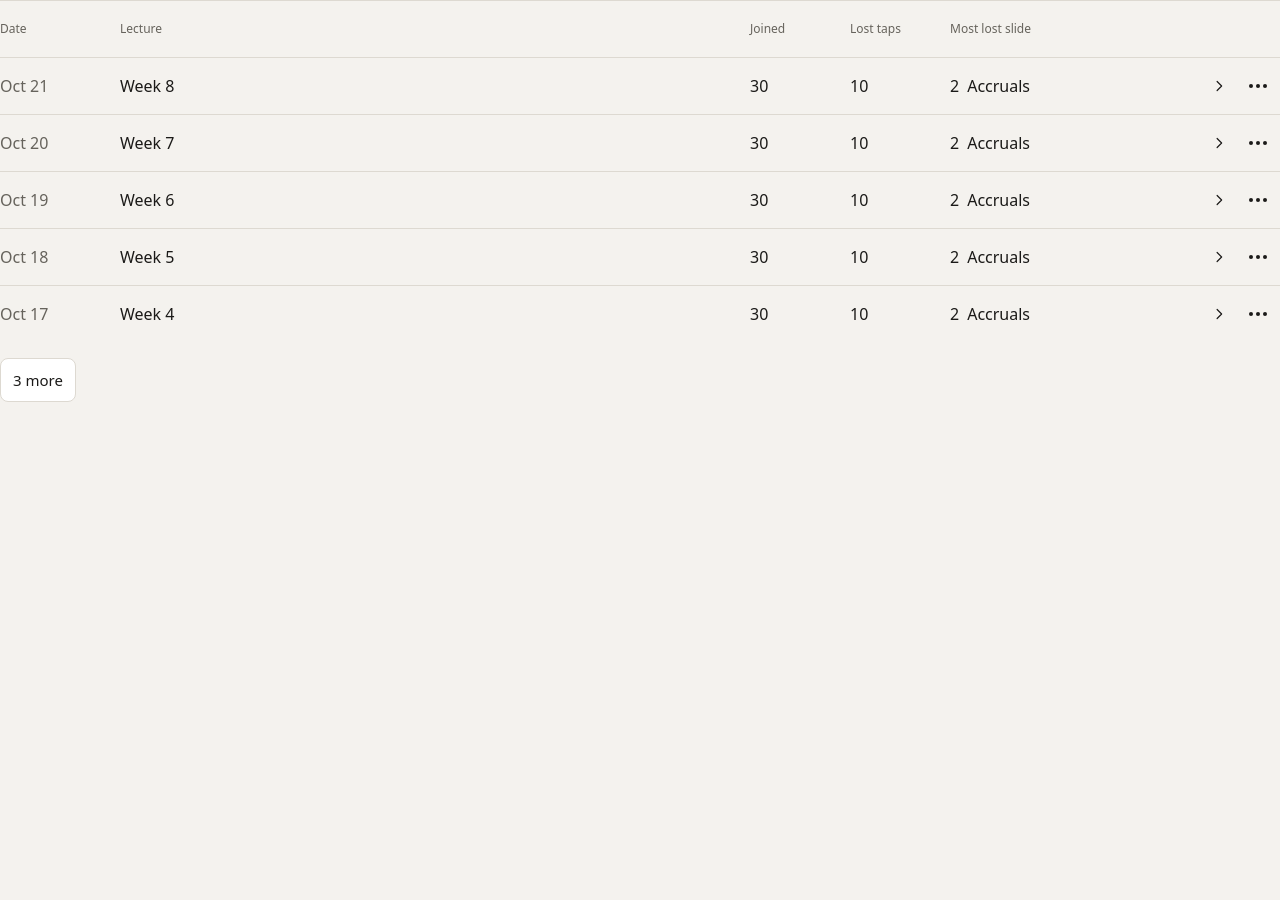
it: PastLectures › gives every shown row an always-visible ⋯ menu for that lecture, outside the row link
This screenshot has width=1280, height=900.
What coordinates should you click on to do the following:
click the button named "More for "
I would click on:
 (1258, 86)
Its box is [1236,64,1279,108].
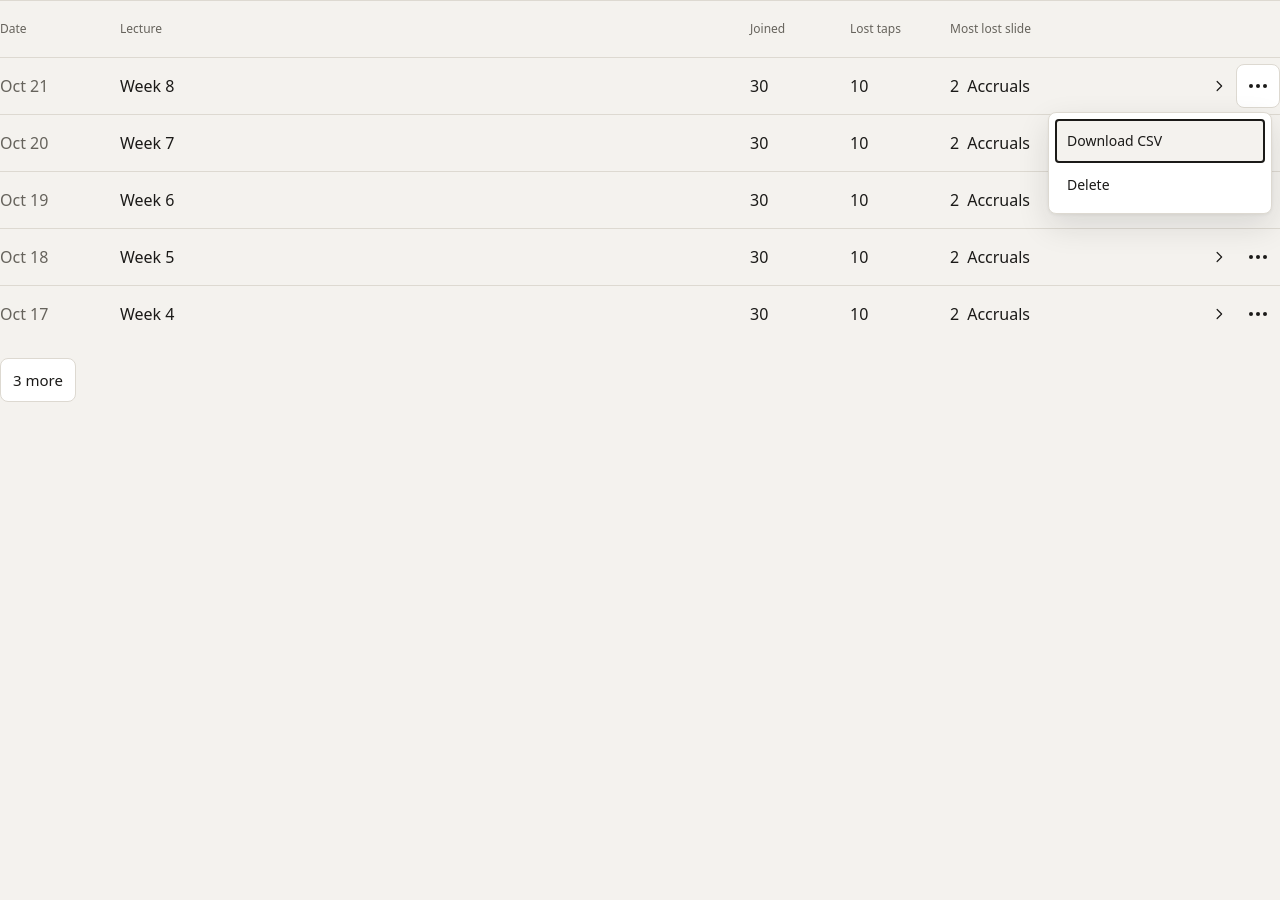
Expected: the menu does not show "Resume", [1048,112,1272,214]
Now the menu shows "Download CSV", box [1055,119,1265,163]
Now the menu shows "Delete"
What coordinates should you click on to do the following:
click the menu item "Delete"
I would click on:
 (1160, 185)
Its box is [1055,163,1265,207].
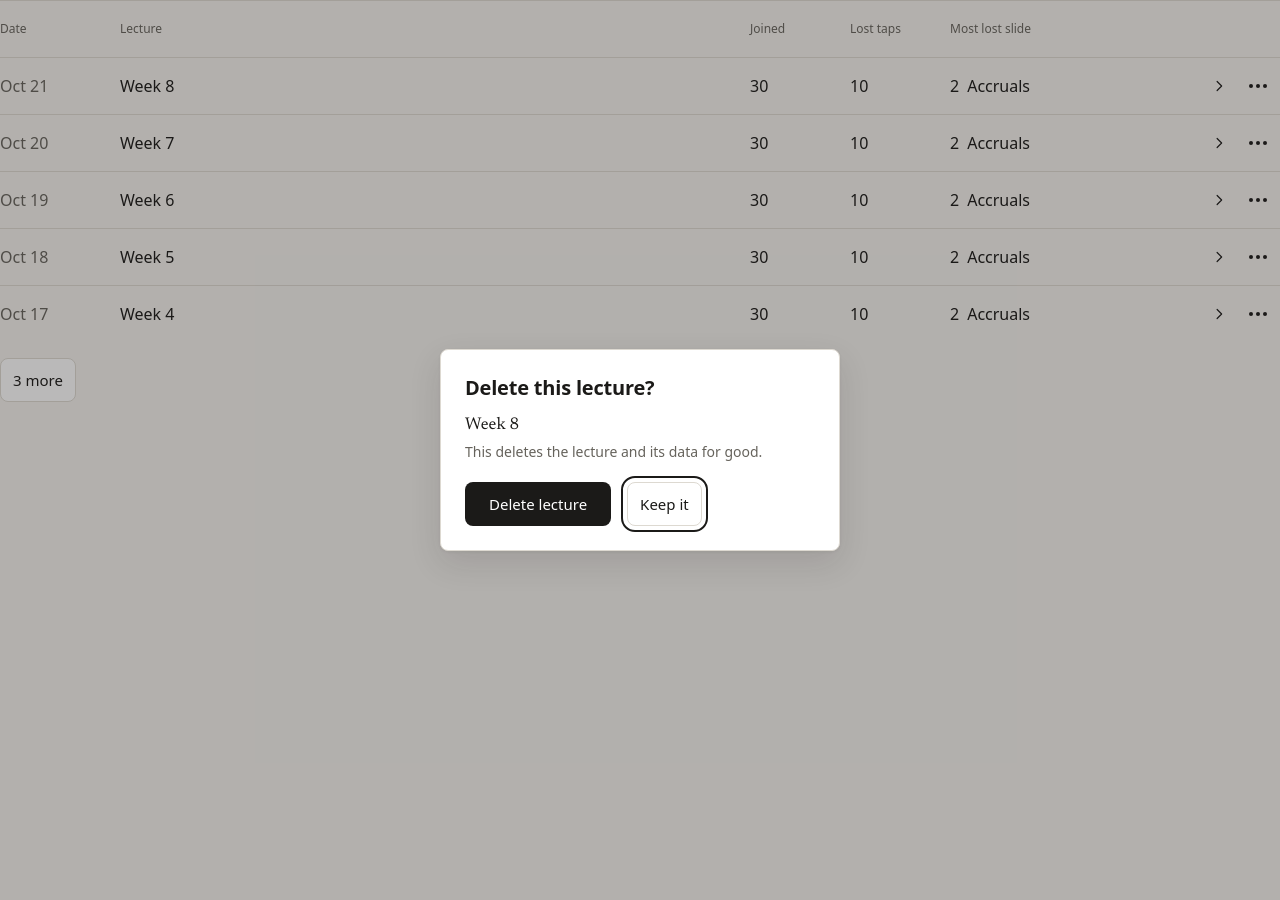
Now the dialog shows "Week 8", box [465,417,519,434]
